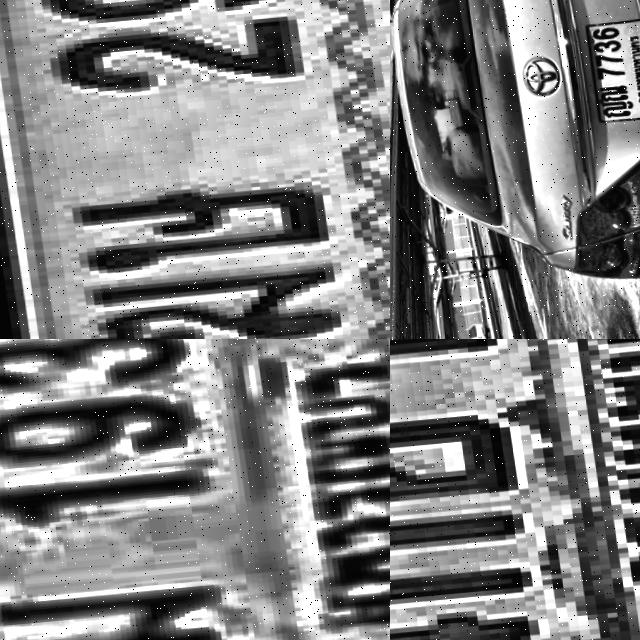license-plate: (0, 0, 390, 339), (0, 339, 390, 640), (390, 339, 640, 640), (576, 18, 640, 124)
